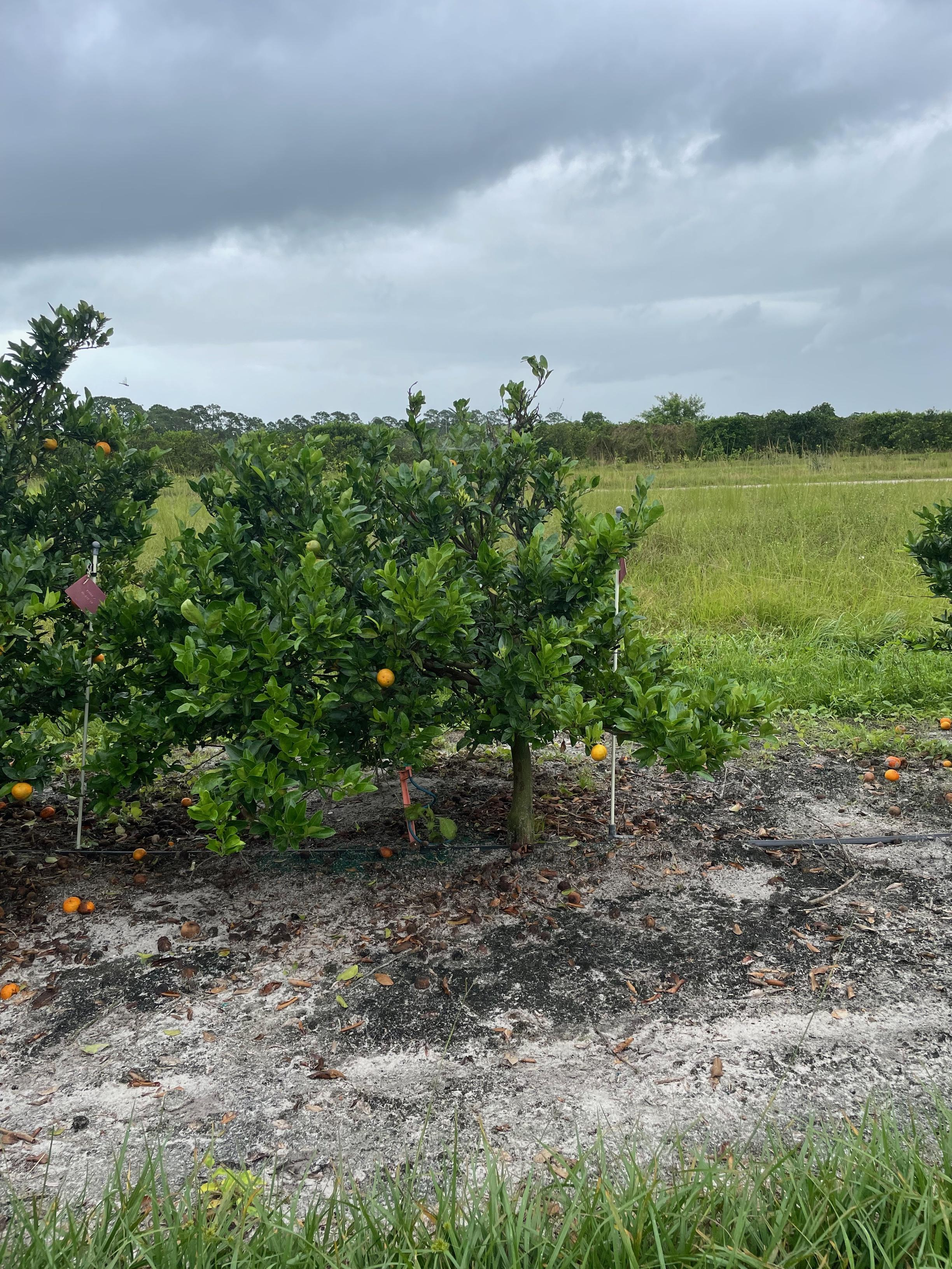fruit_on_ground: (374, 666, 398, 690), (9, 780, 34, 802), (88, 643, 111, 666), (588, 742, 609, 763), (92, 438, 113, 459), (303, 538, 323, 556), (40, 434, 60, 452)
fruit_on_tree: (180, 918, 201, 939), (1, 980, 21, 1001), (61, 894, 82, 914), (78, 898, 96, 915), (38, 803, 57, 818), (130, 846, 147, 862), (131, 871, 149, 886), (937, 714, 952, 731), (884, 768, 901, 782), (860, 769, 875, 784), (378, 844, 394, 858), (178, 794, 194, 808), (886, 754, 903, 767), (892, 723, 907, 736), (0, 796, 11, 813), (887, 803, 901, 816), (942, 788, 952, 805), (939, 755, 951, 768)
